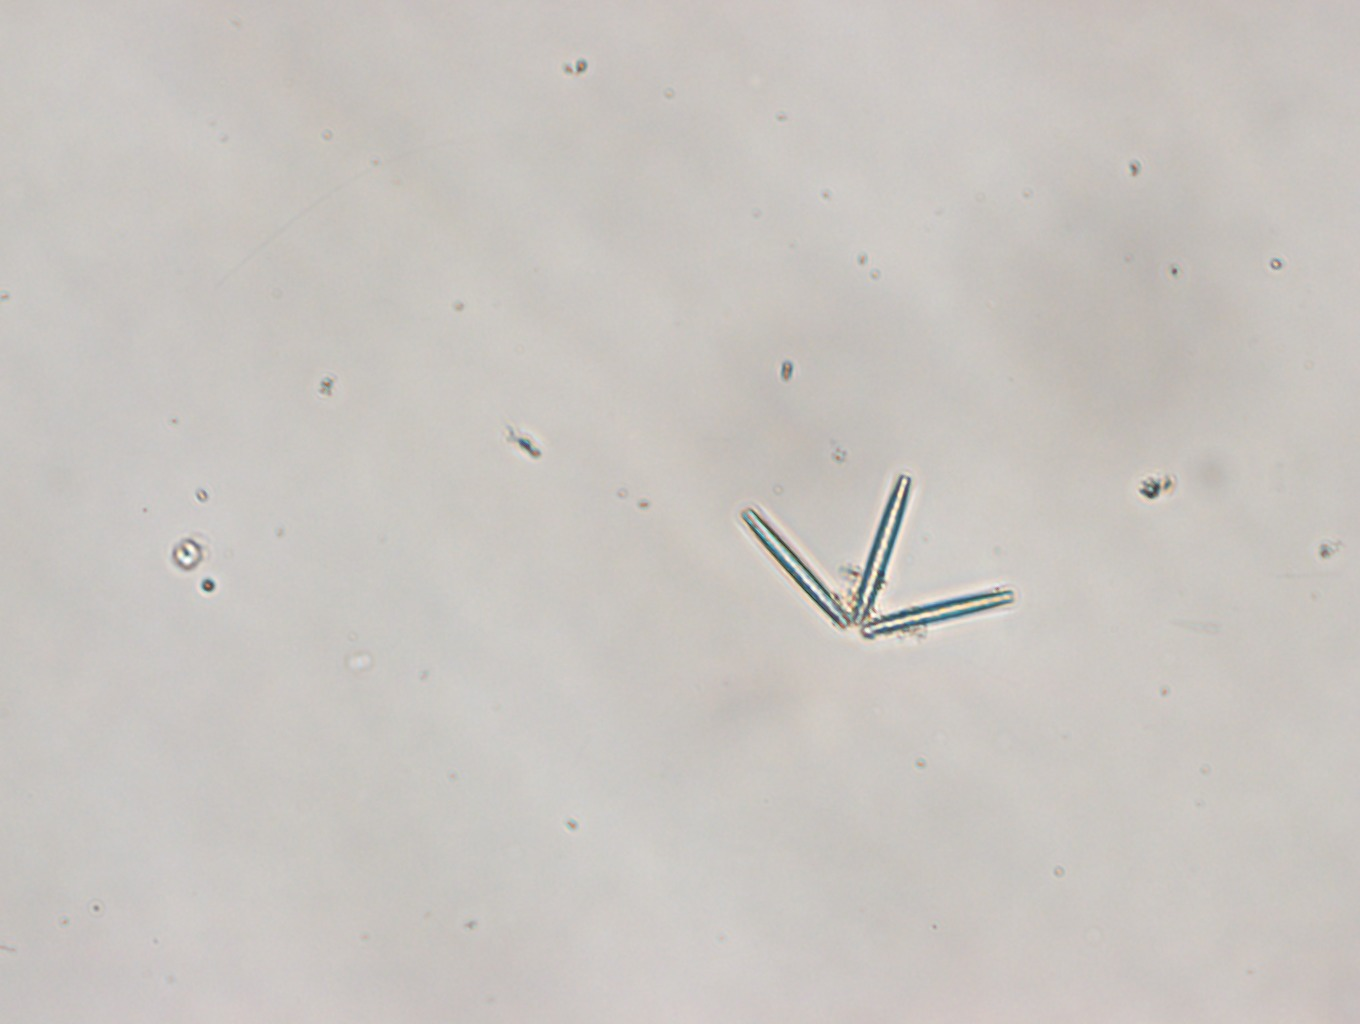thalassionema nitzschioides: (739, 473, 1016, 641)
